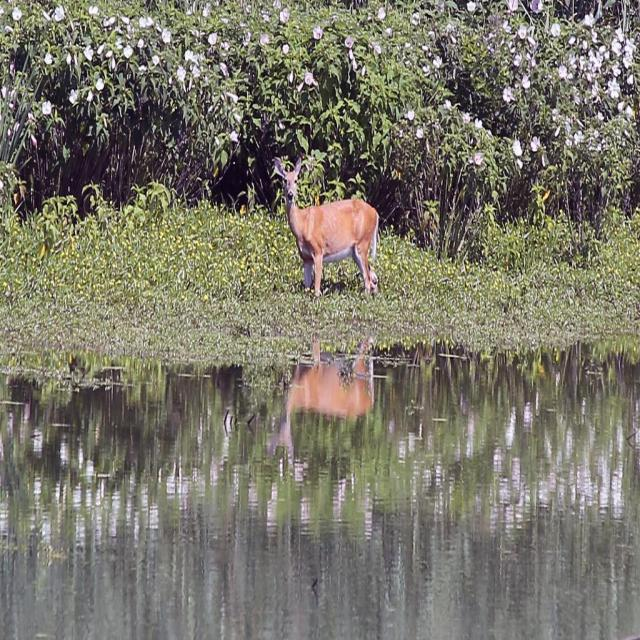Deer: (276, 159, 381, 299)
